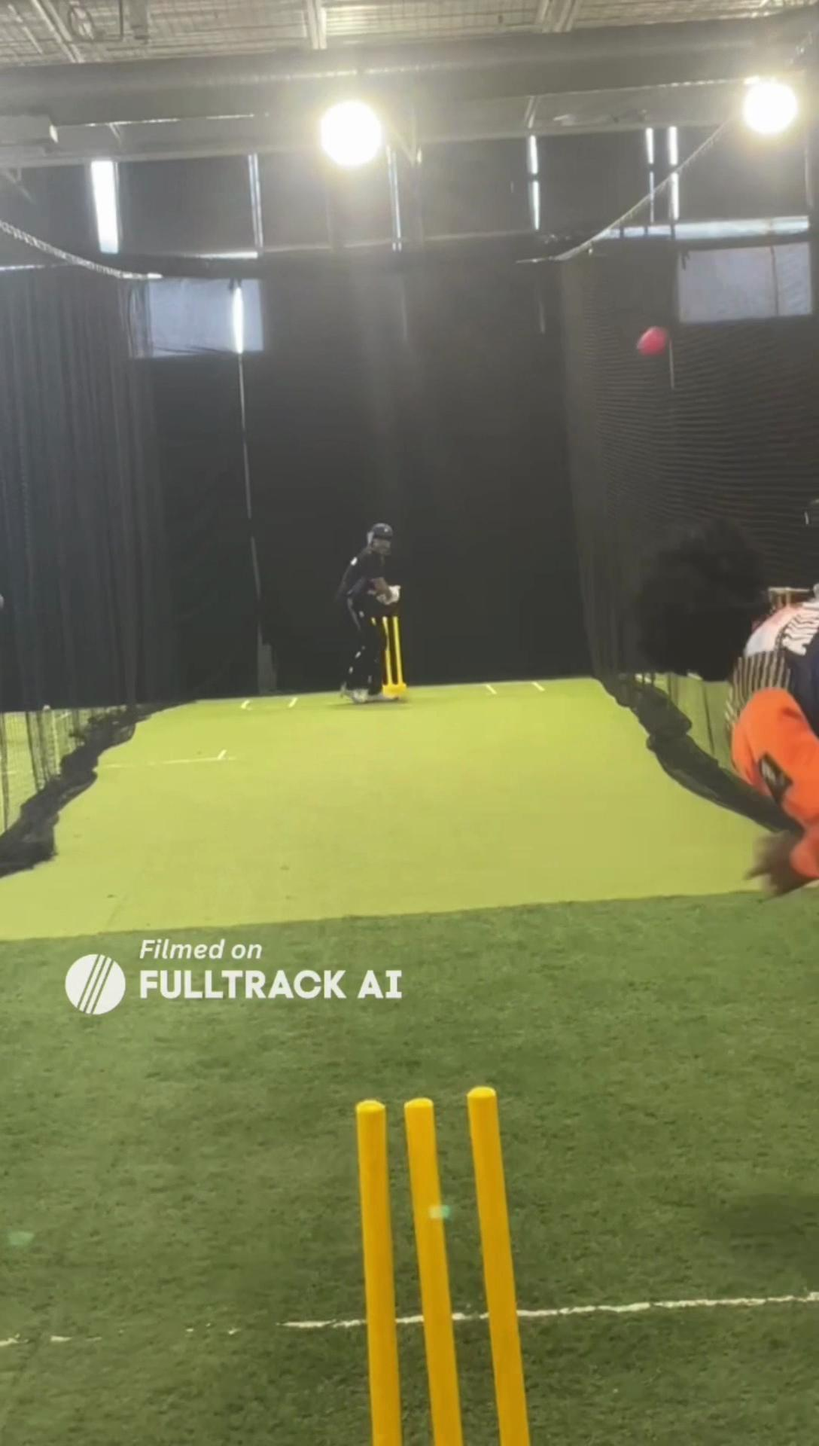ball: (636, 322, 671, 359)
